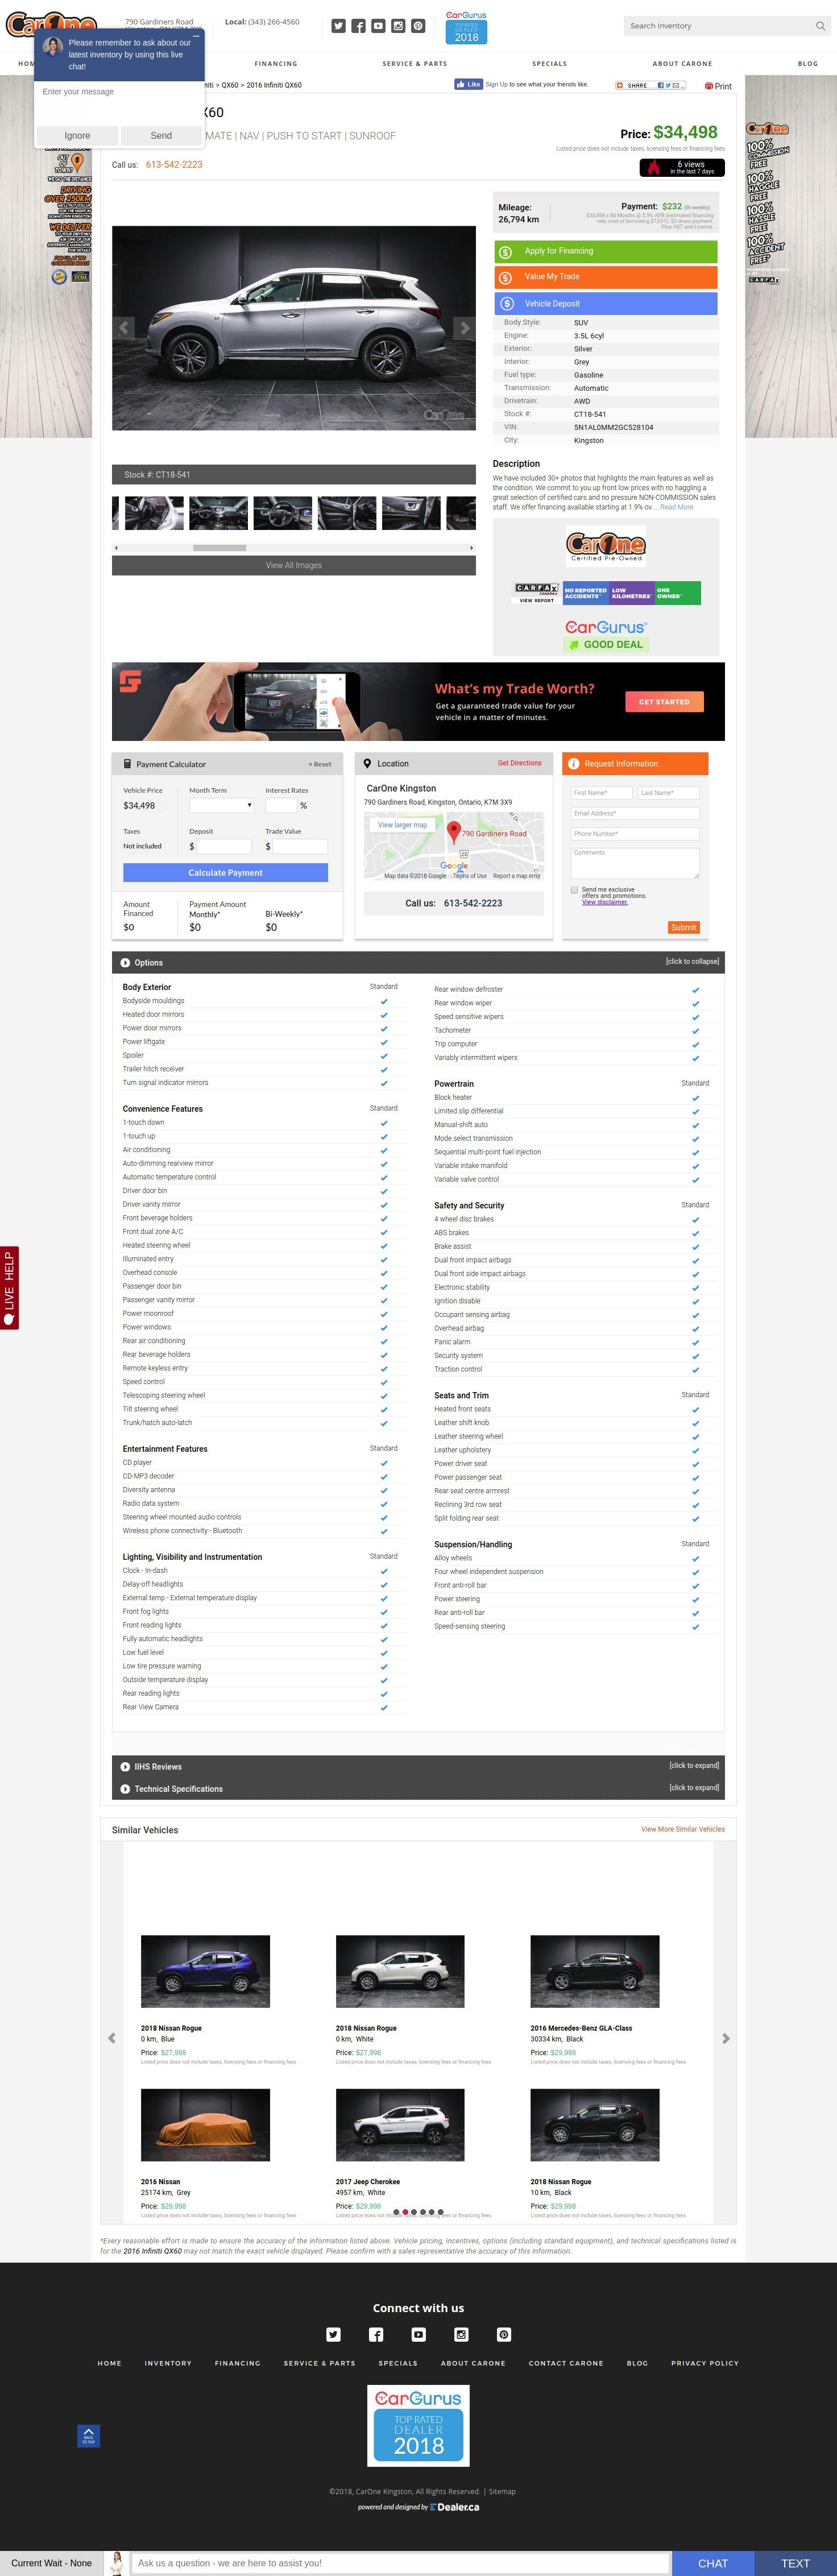car: (471, 545, 474, 550)
